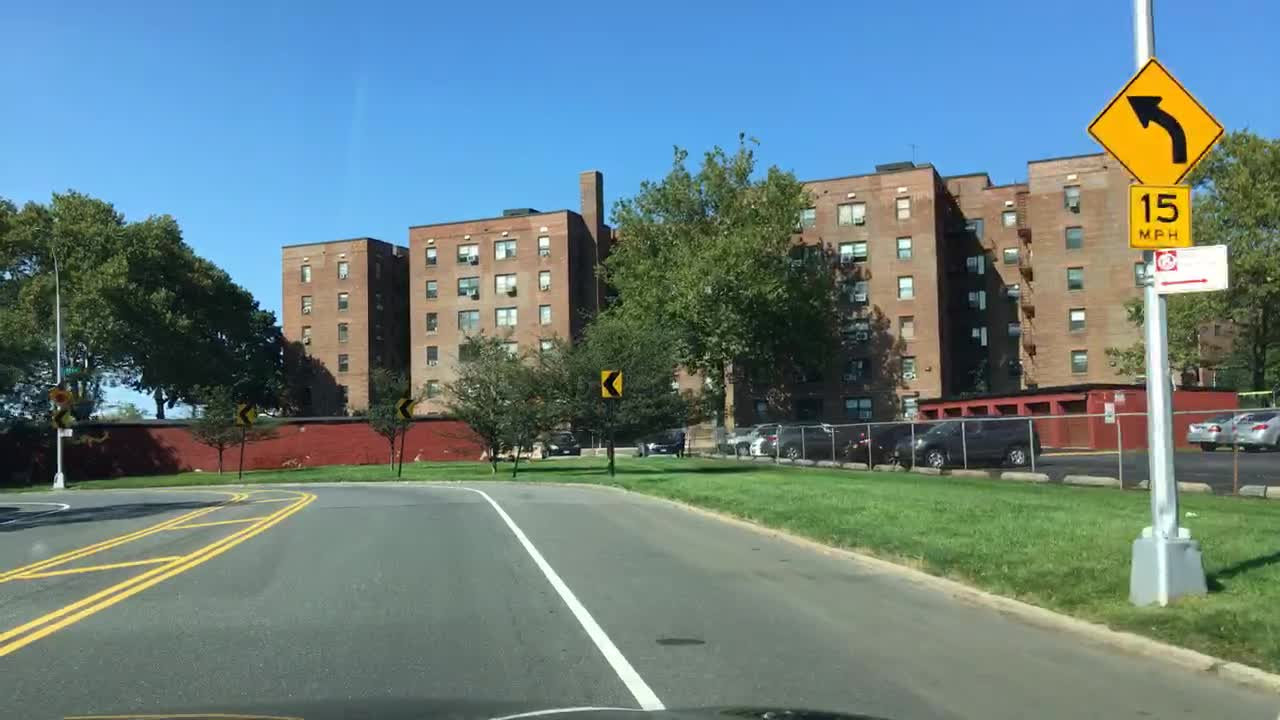car: (889, 412, 1043, 472), (838, 417, 933, 467), (759, 420, 867, 462), (1184, 410, 1252, 454), (1227, 405, 1279, 454), (715, 418, 778, 454), (631, 430, 688, 457), (543, 428, 587, 455), (746, 434, 773, 457), (489, 442, 523, 459)
traffic sign: (1083, 57, 1225, 184), (1129, 184, 1191, 246), (1157, 243, 1228, 293), (600, 368, 624, 398), (47, 381, 74, 407), (233, 403, 256, 428), (395, 395, 415, 422), (49, 408, 76, 428), (57, 364, 82, 376)
